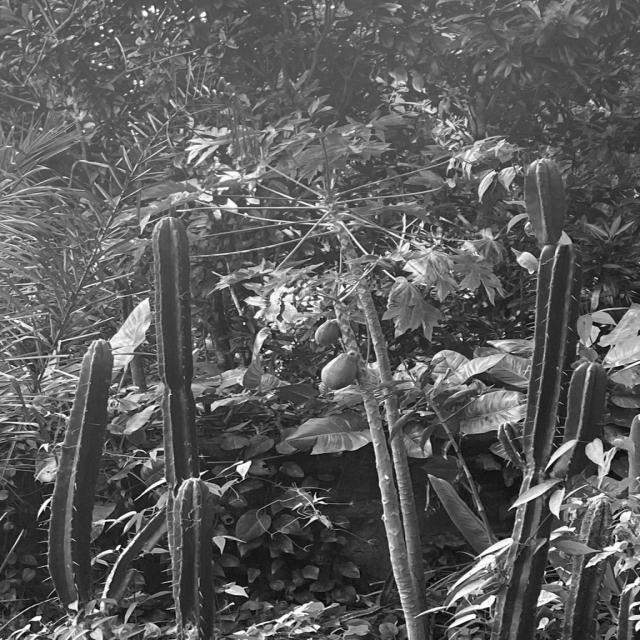Papaya-Tree: (188, 117, 519, 639)
